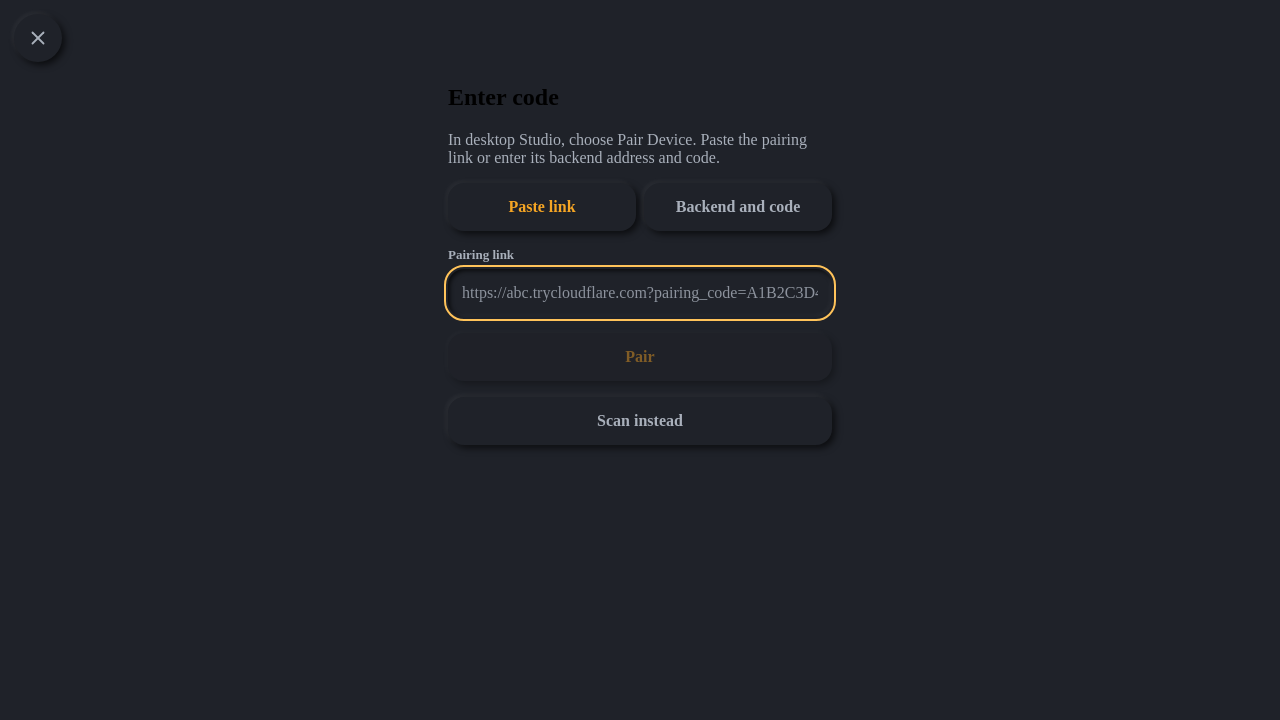
both app roots and panel workflows › manual code entry validates before pairing and retains both fields after a failed request
Click the button "Backend and code": coordinates (738, 207) left=644, top=183, right=832, bottom=231
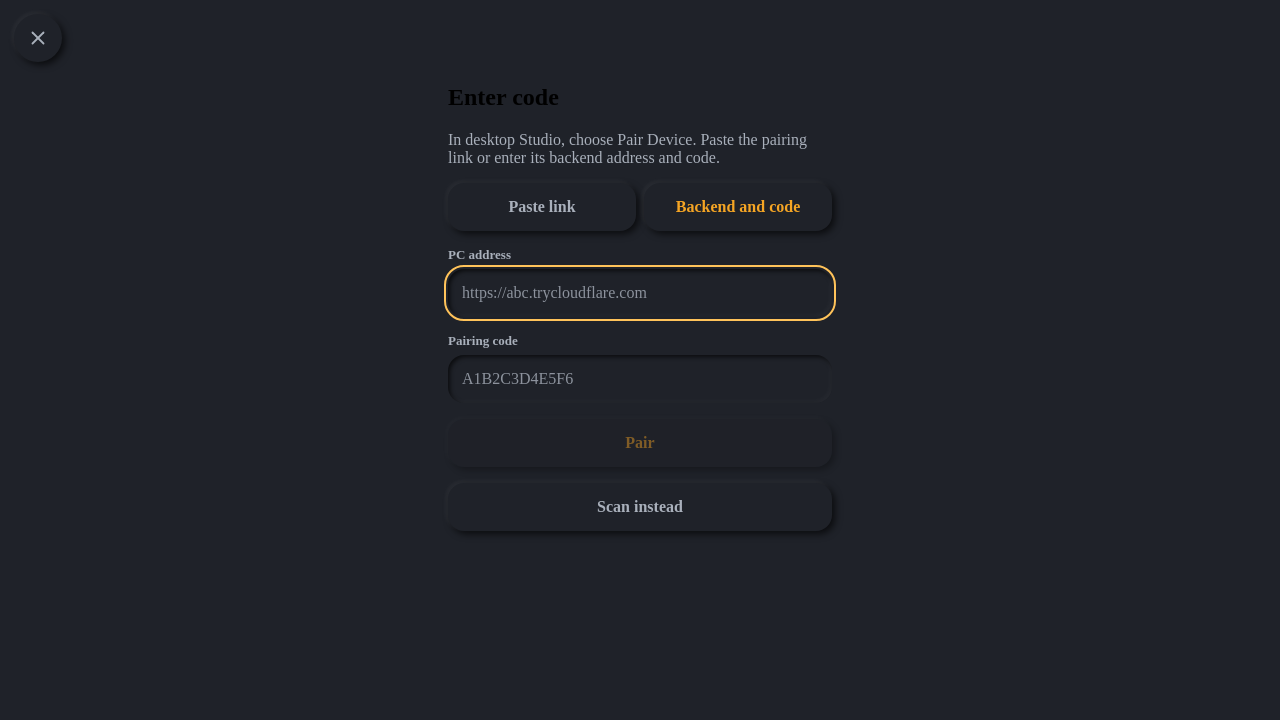
In the field labelled "PC address": coordinates (640, 293) left=448, top=269, right=832, bottom=317, type "https://backend.example"
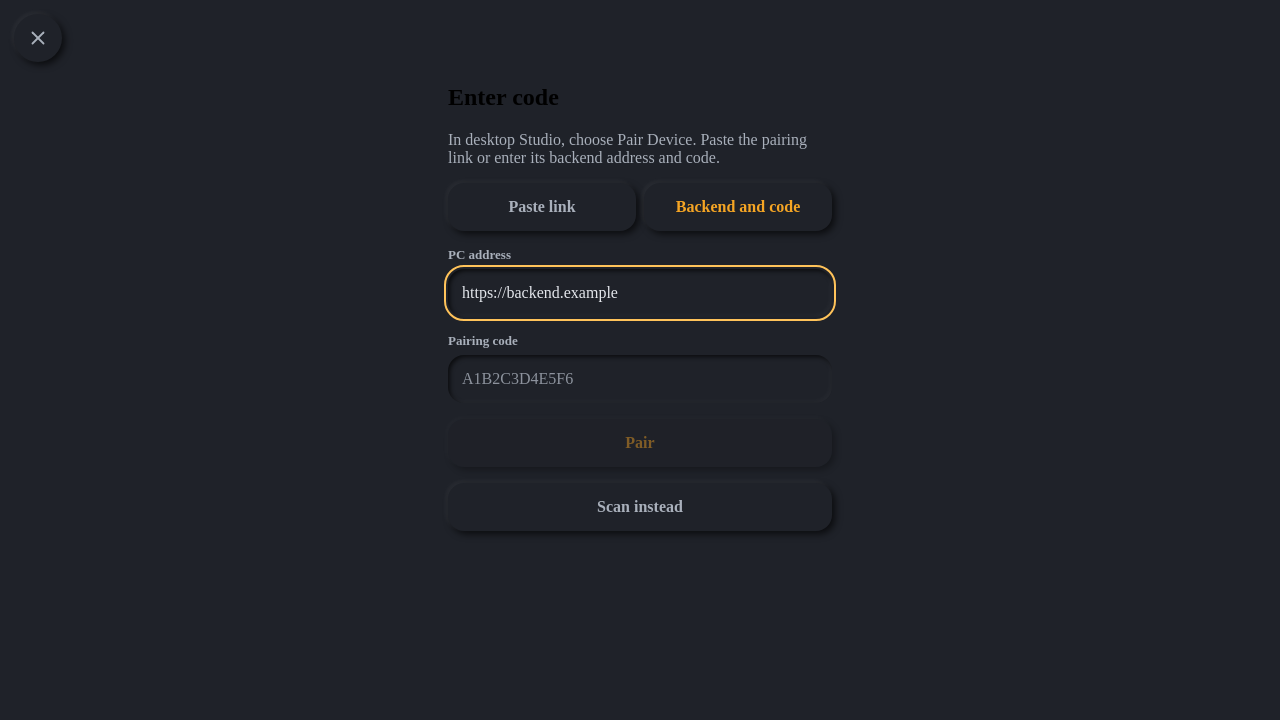
In the field labelled "Pairing code": coordinates (640, 379) left=448, top=355, right=832, bottom=403, type "short"
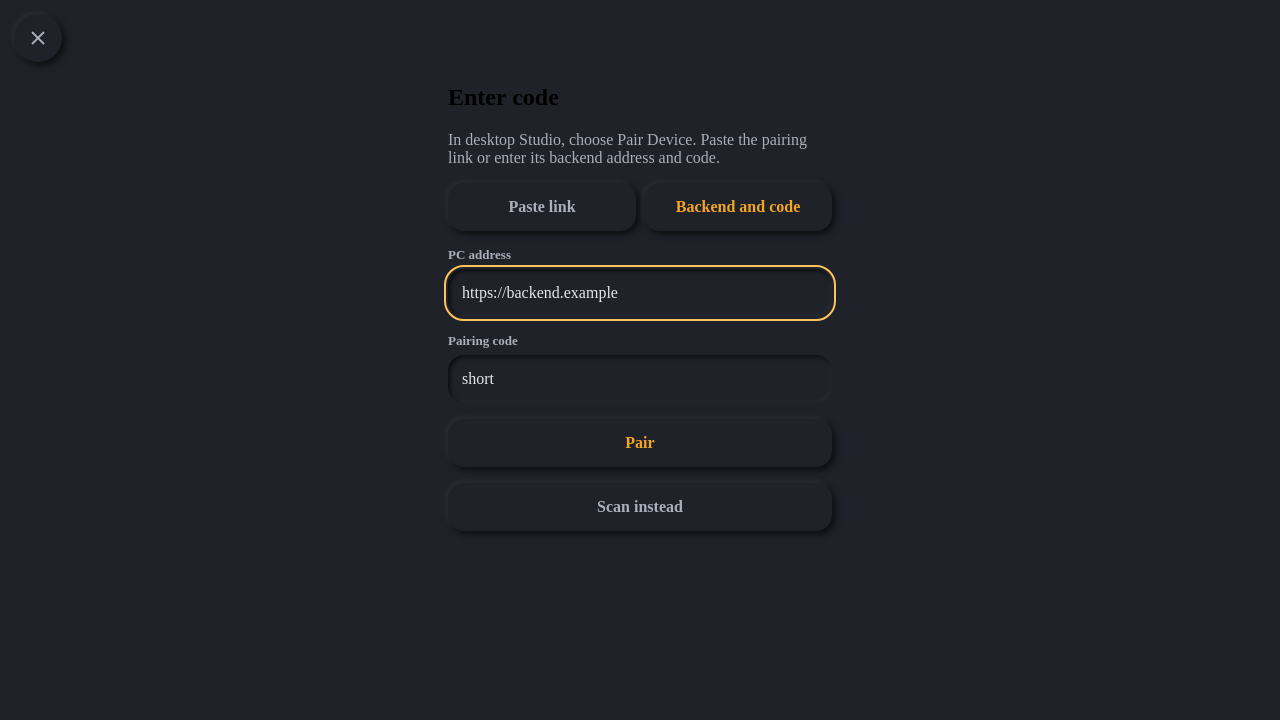
Click the button "Pair": coordinates (640, 443) left=448, top=419, right=832, bottom=467
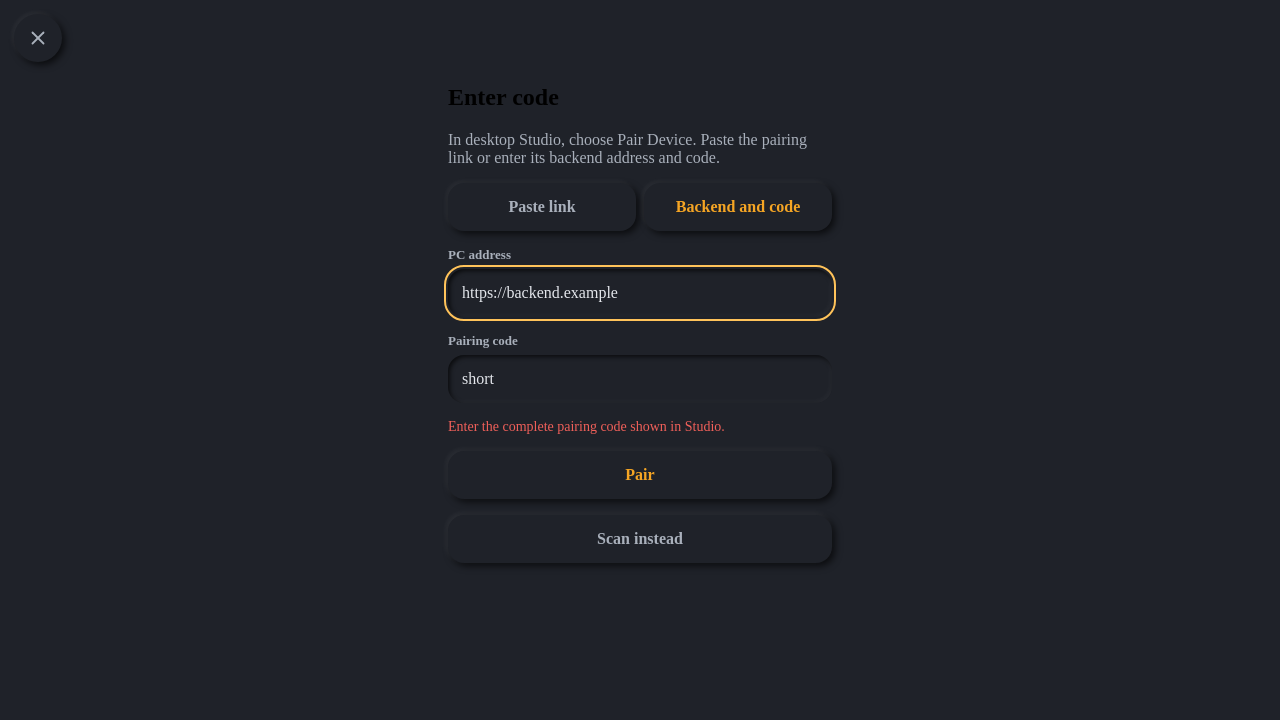
Now the message shows "complete pairing code", box left=448, top=419, right=725, bottom=434
Replace the text in the field labelled "Pairing code" with "ABCDEF123456": coordinates (640, 379) left=448, top=355, right=832, bottom=403
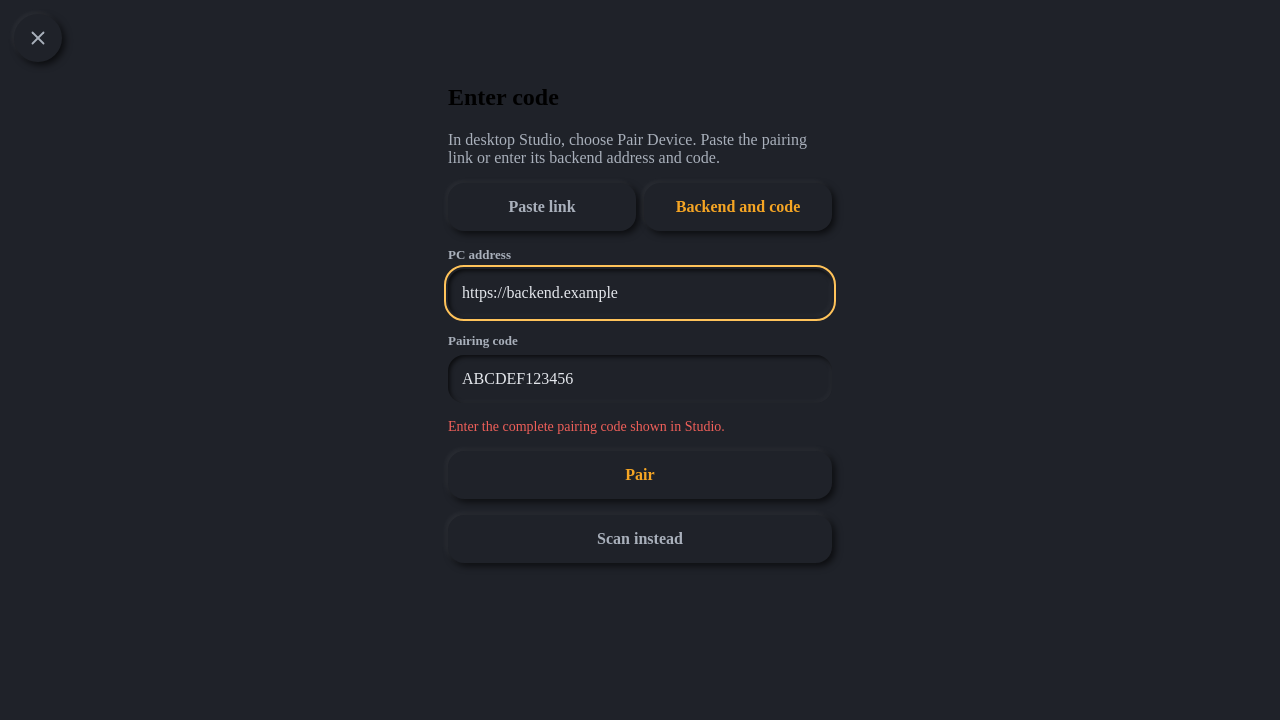
Click the button "Pair": coordinates (640, 475) left=448, top=451, right=832, bottom=499
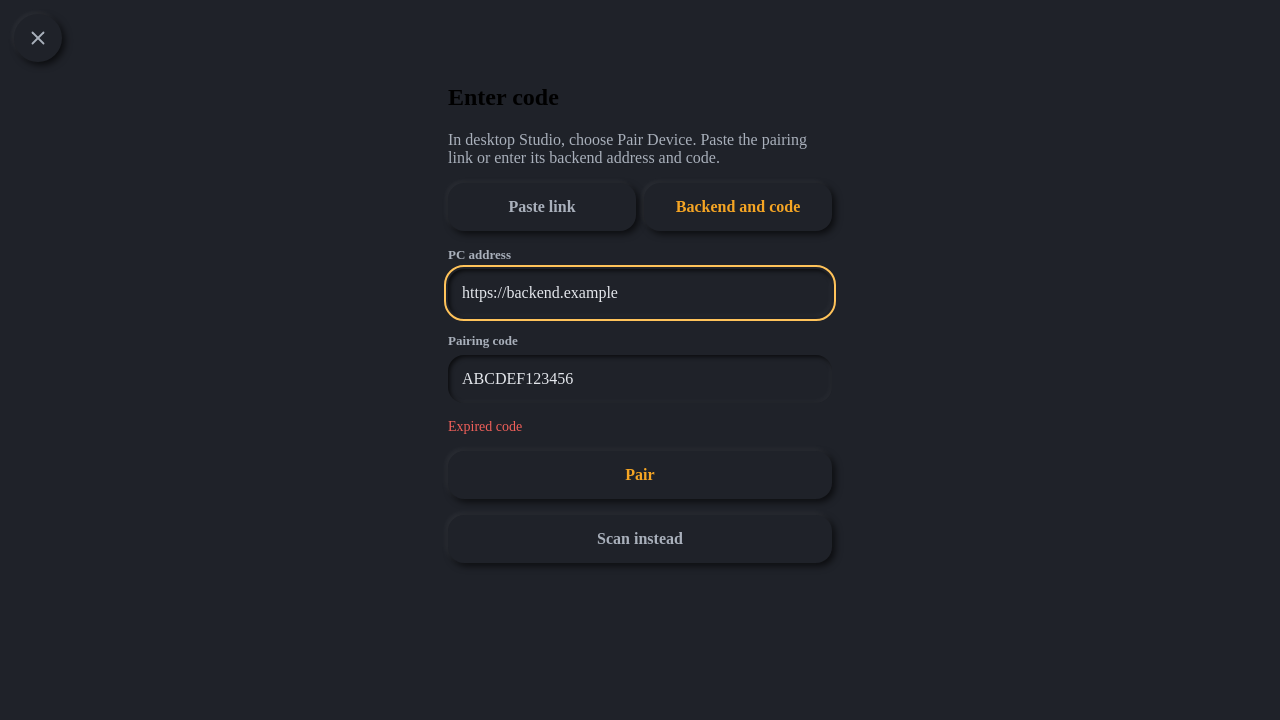
Now the field labelled "PC address" holds "https://backend.example", box left=448, top=269, right=832, bottom=317
Now the field labelled "Pairing code" holds "ABCDEF123456", box left=448, top=355, right=832, bottom=403
Now the message reads "Expired code", box left=448, top=419, right=522, bottom=434
